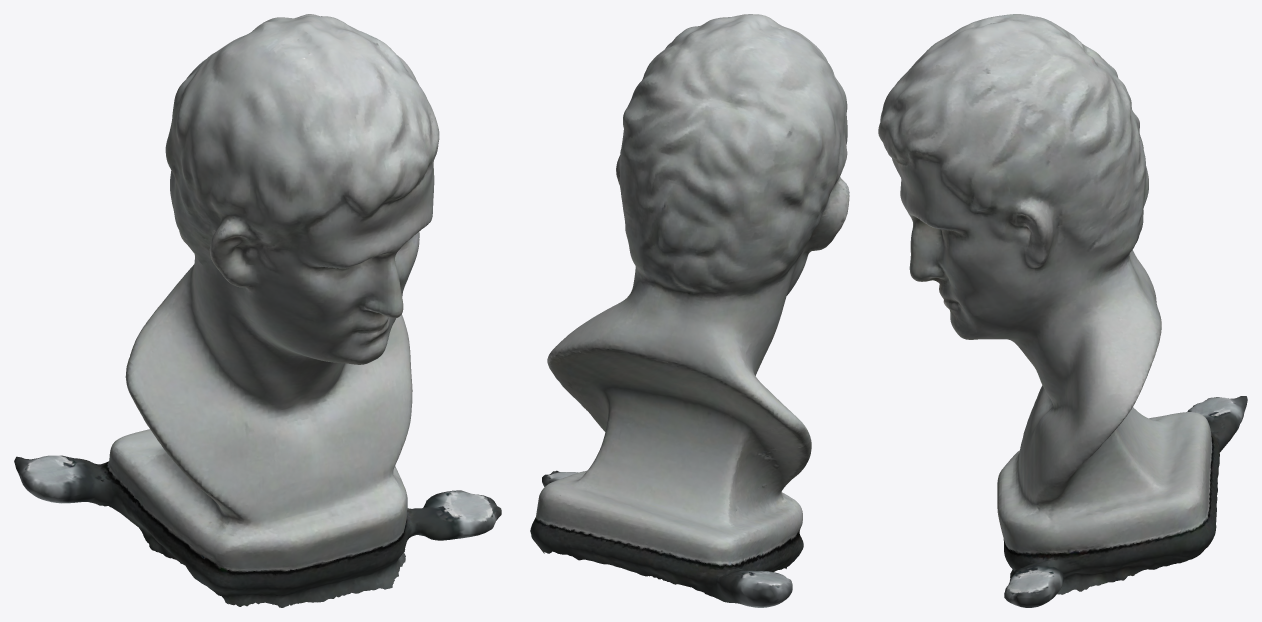
Rendered from 0820_03_tex.gltf.
3 views of the same model, side by side, from view 1: azimuth 30°, elevation 25°; view 2: azimuth 150°, elevation 25°; view 3: azimuth 270°, elevation 25° (orthographic). The views are drawn at different scales.
Bounding box in the file's own units: 46.74 × 70.39 × 44.53.
Materials: 1 (1 with a texture image).
